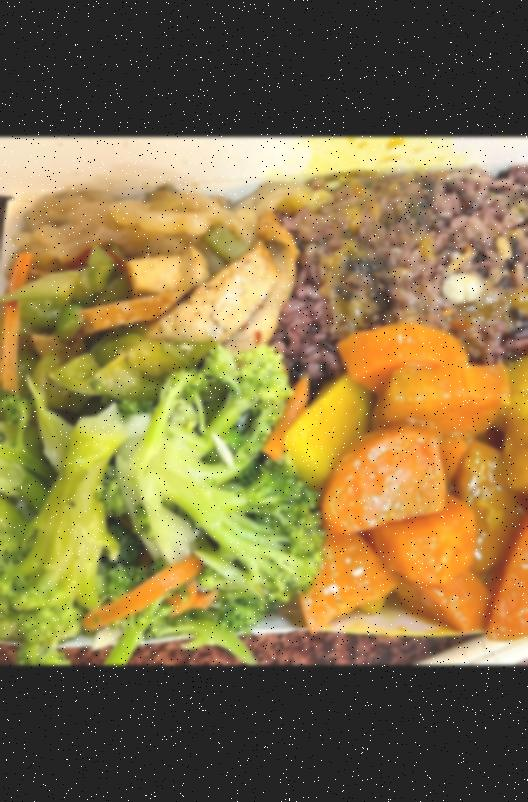big grilled chicken leg: (0, 144, 528, 644)
braised fish: (279, 168, 528, 382)
braised fish fillet: (0, 359, 322, 632), (296, 329, 528, 629), (10, 176, 295, 360)
